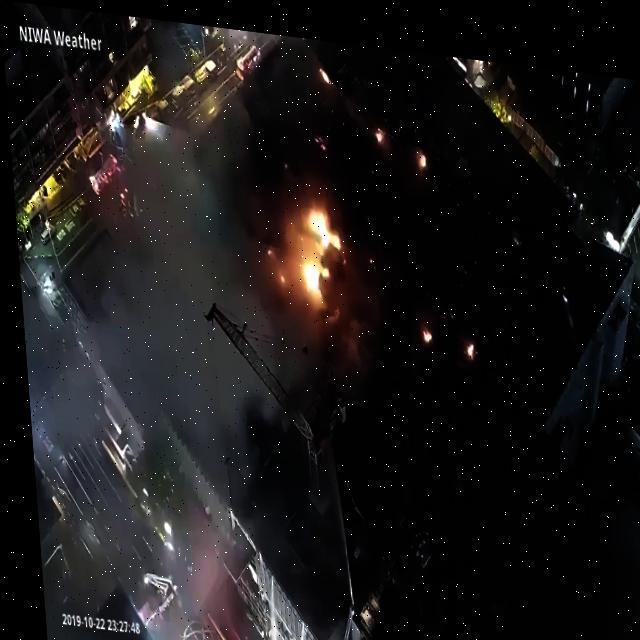Fire: (300, 193, 340, 250), (296, 248, 326, 292), (318, 54, 332, 76), (460, 330, 471, 350), (416, 139, 426, 158), (373, 120, 386, 134), (418, 316, 428, 332)
